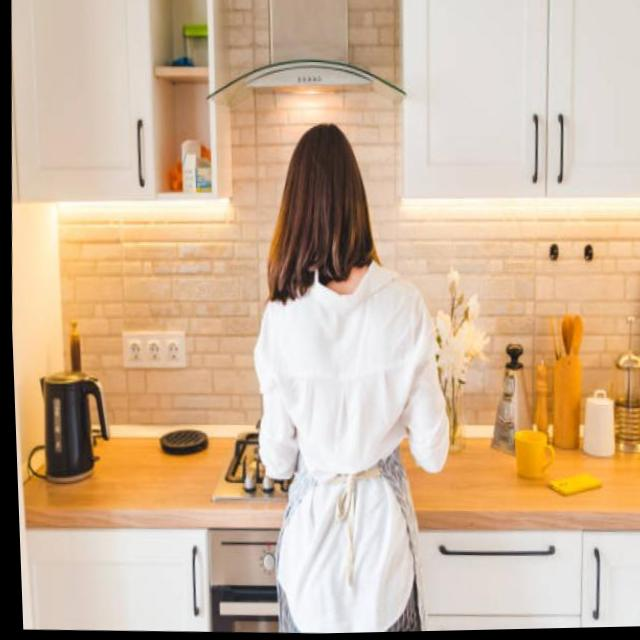no helmet: (260, 110, 391, 321)
